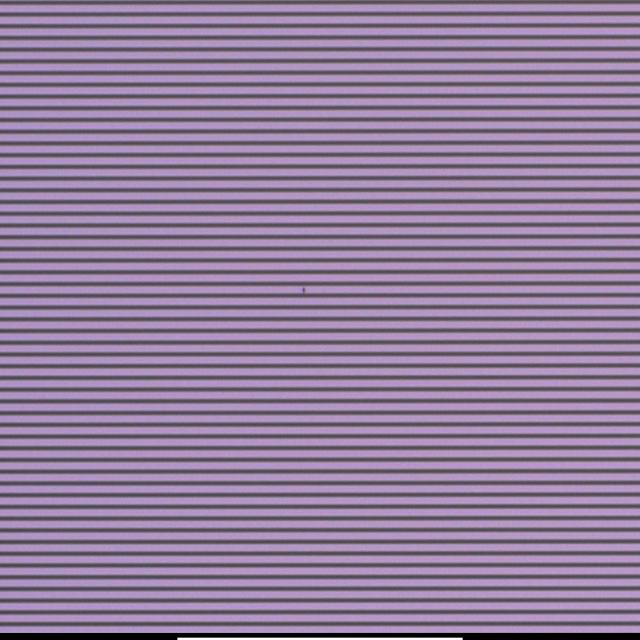nonvisual: (300, 286, 307, 294)
